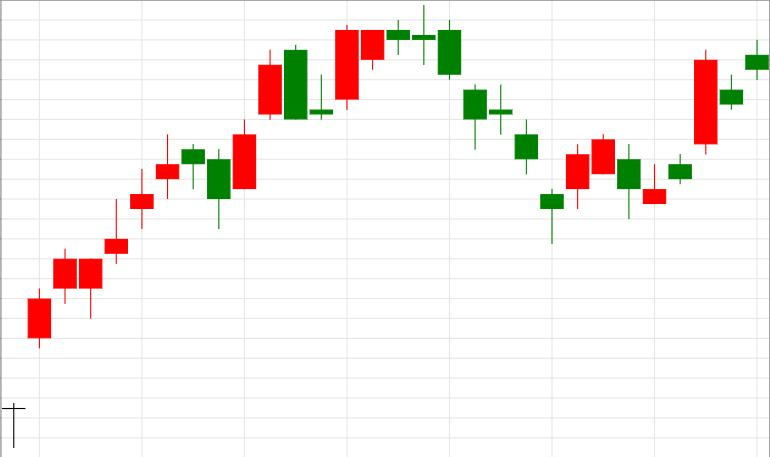morning_star_rise: (386, 5, 589, 244)
